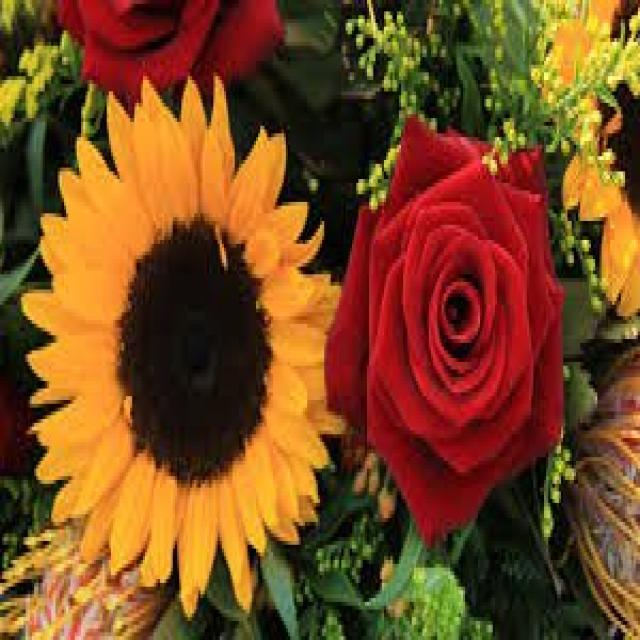sunflower: (19, 72, 346, 617), (559, 0, 640, 318)
